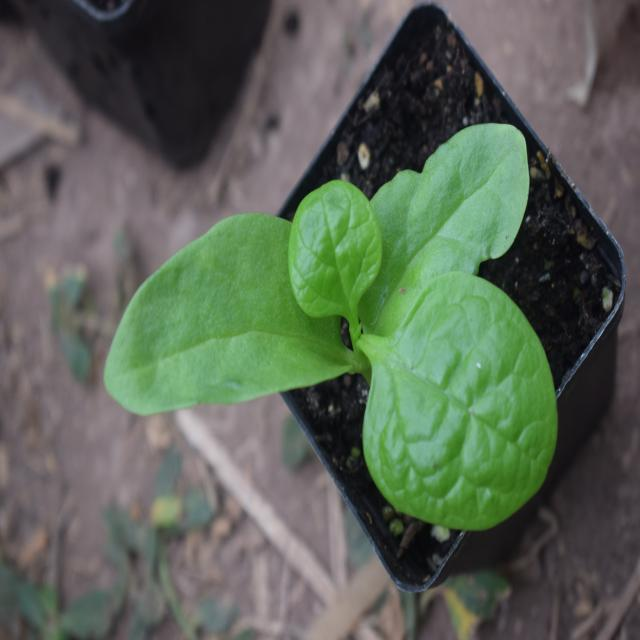Ceylon spinach: (138, 165, 557, 516)
